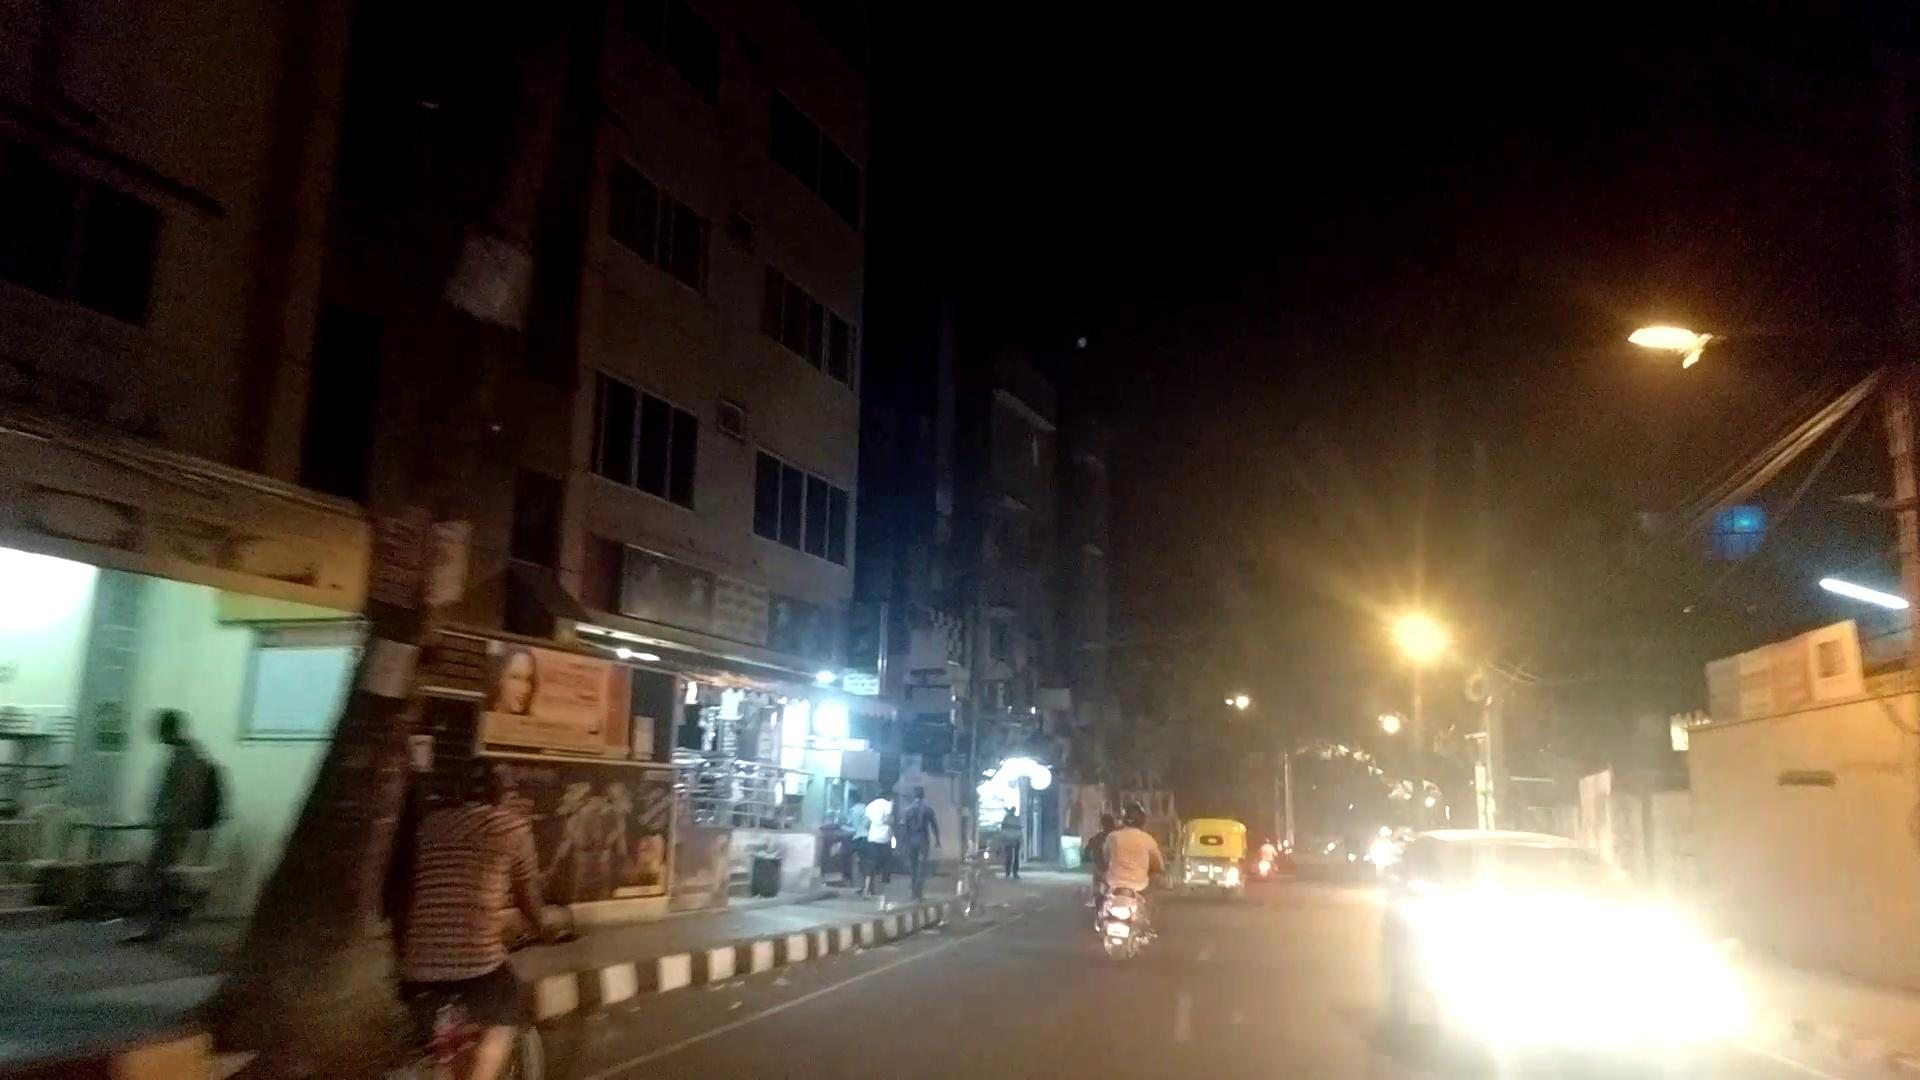on: (1499, 232, 1838, 419), (1320, 492, 1527, 723)
